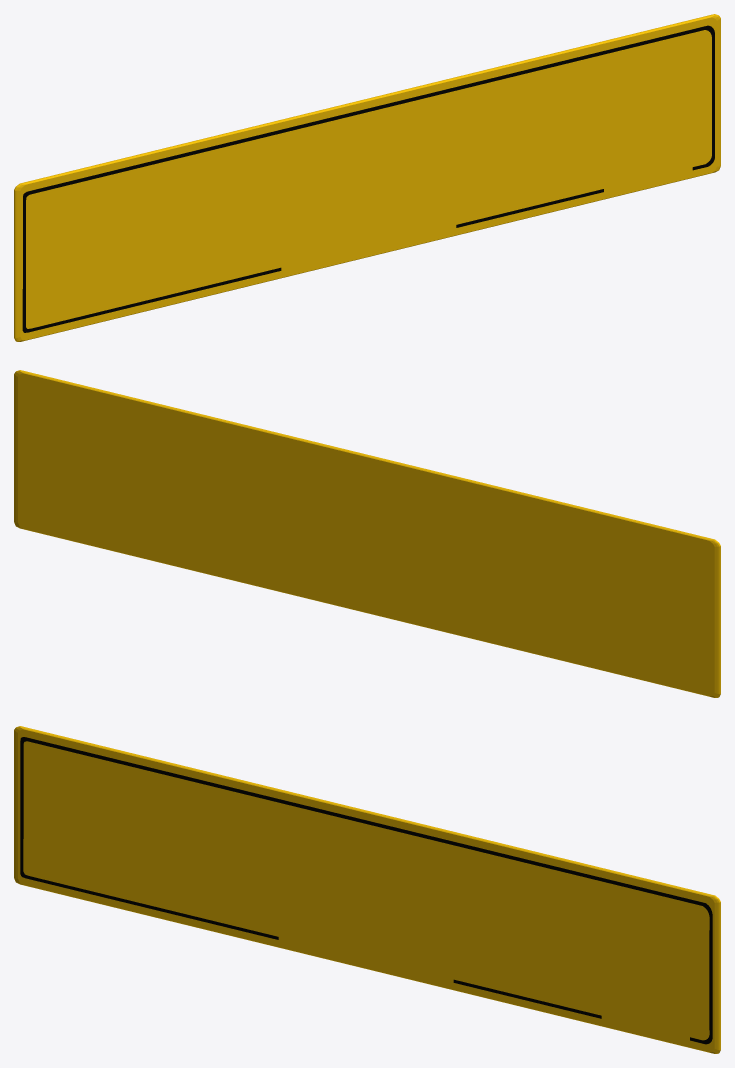
File: standard_bordered_plate.gltf
3 views of the same model, one above another, from view 1: azimuth 30°, elevation 25°; view 2: azimuth 150°, elevation 25°; view 3: azimuth 330°, elevation 25° (orthographic).
Parts seen in each view (by area): view 1: Plane.002, Circle; view 2: Plane.002; view 3: Plane.002, Circle.
Part boxes in pixels (<box>): Plane.002: <box>14,14,720,341</box>; Circle: <box>22,25,714,332</box>; Plane.002: <box>14,370,720,697</box>; Plane.002: <box>14,726,720,1053</box>; Circle: <box>20,737,712,1044</box>.
Size of the model in its own units: 10.48 by 2.24 by 0.0618.
